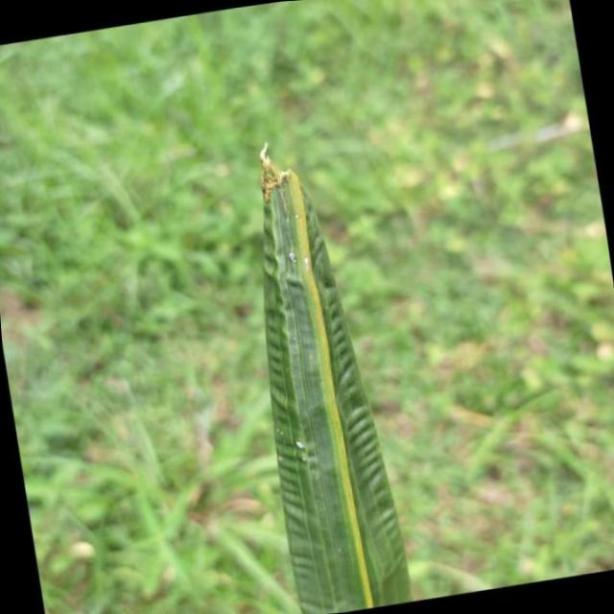Boron: (258, 136, 412, 612)
